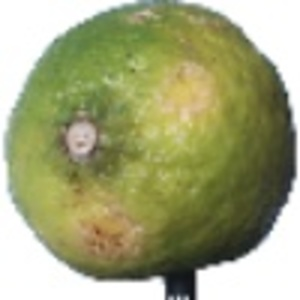limão: (3, 1, 298, 300)
